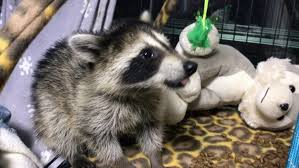raccoon: (33, 13, 200, 160)
